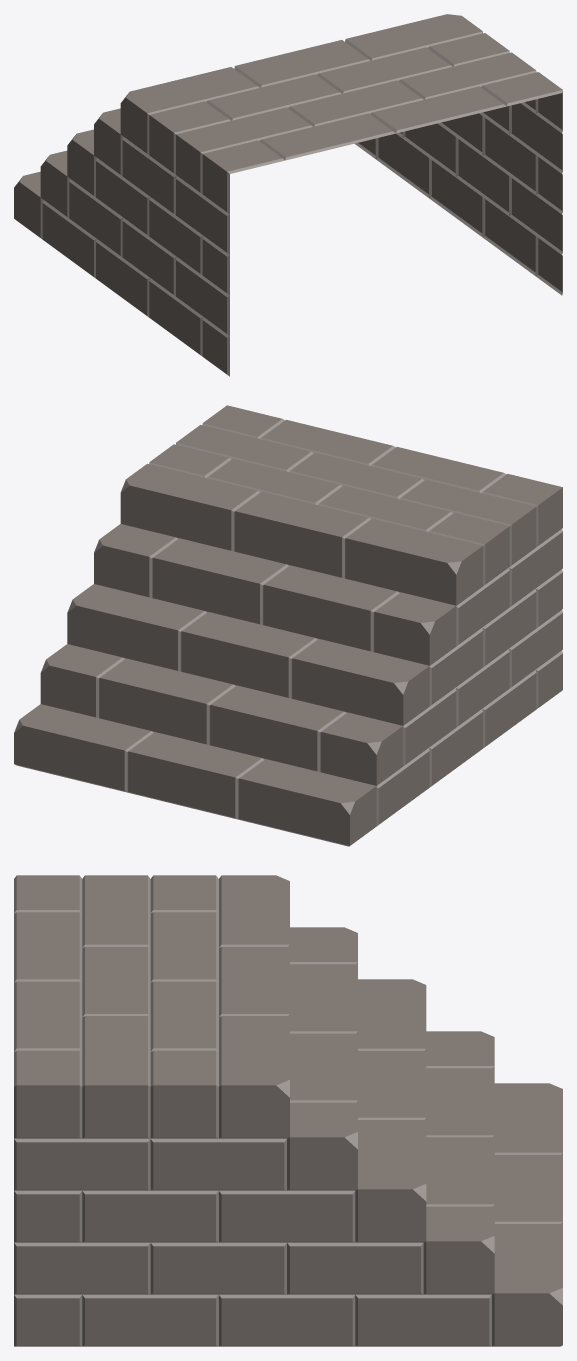
Rendered from Stairs_Brick.fbx.
The picture shows the model from 3 angles, top to bottom: view 1: azimuth 30°, elevation 25°; view 2: azimuth 150°, elevation 25°; view 3: azimuth 270°, elevation 25°; orthographic projection. The views are drawn at different scales.
Visible parts, largest first — view 1: Stairs_Brick; view 2: Stairs_Brick; view 3: Stairs_Brick.
Part boxes in pixels (bbox=[...]): Stairs_Brick: bbox=[14, 14, 562, 376]; Stairs_Brick: bbox=[14, 405, 562, 846]; Stairs_Brick: bbox=[14, 875, 562, 1346].
Size of the model in its own units: 1.82 by 2.01 by 1.06.
